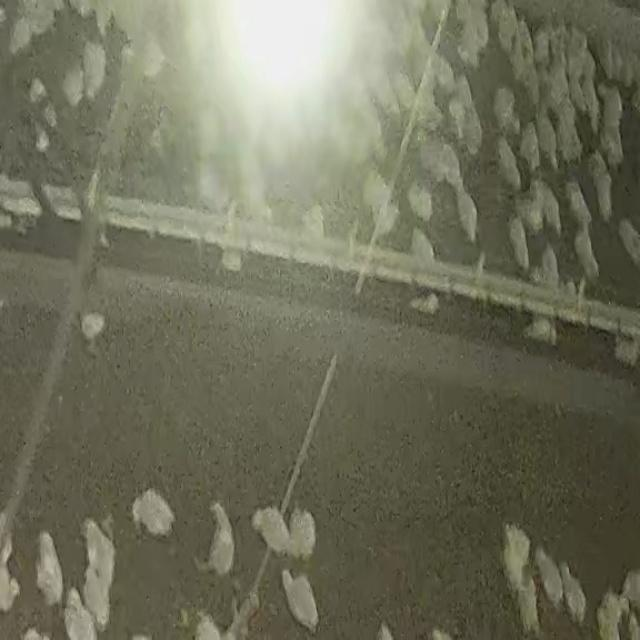chicken: (193, 498, 239, 578), (278, 565, 322, 633), (128, 485, 178, 543), (34, 528, 66, 610), (248, 502, 291, 558), (532, 543, 565, 611), (454, 177, 482, 246), (288, 505, 321, 561), (560, 562, 590, 622), (494, 133, 524, 192), (506, 214, 532, 272)
